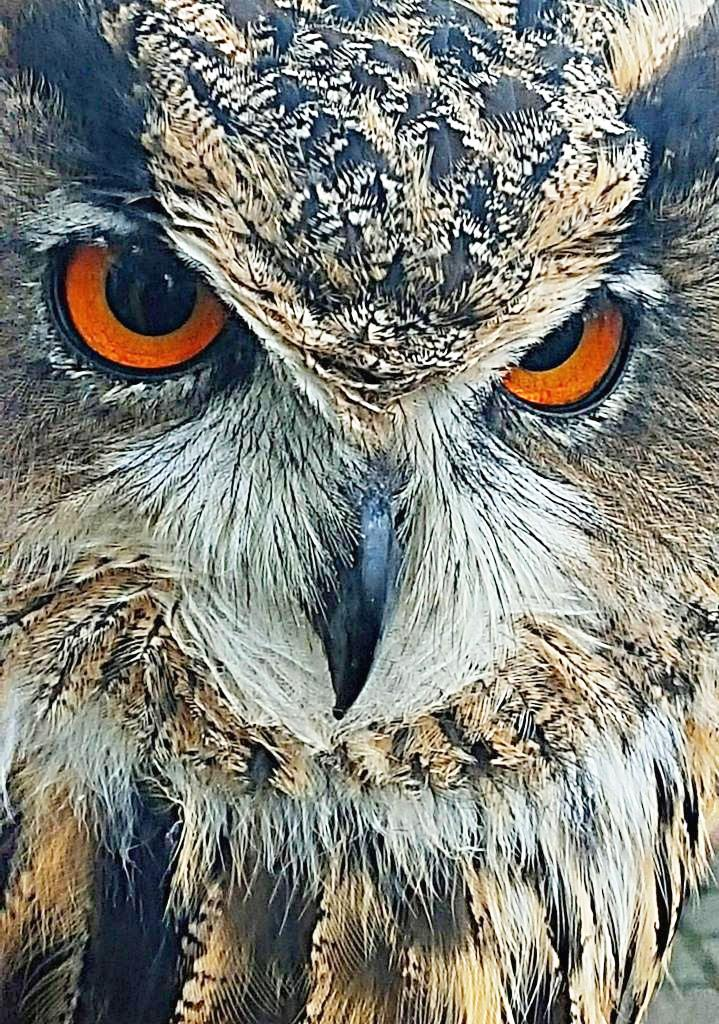Owl: (0, 0, 711, 1023)
